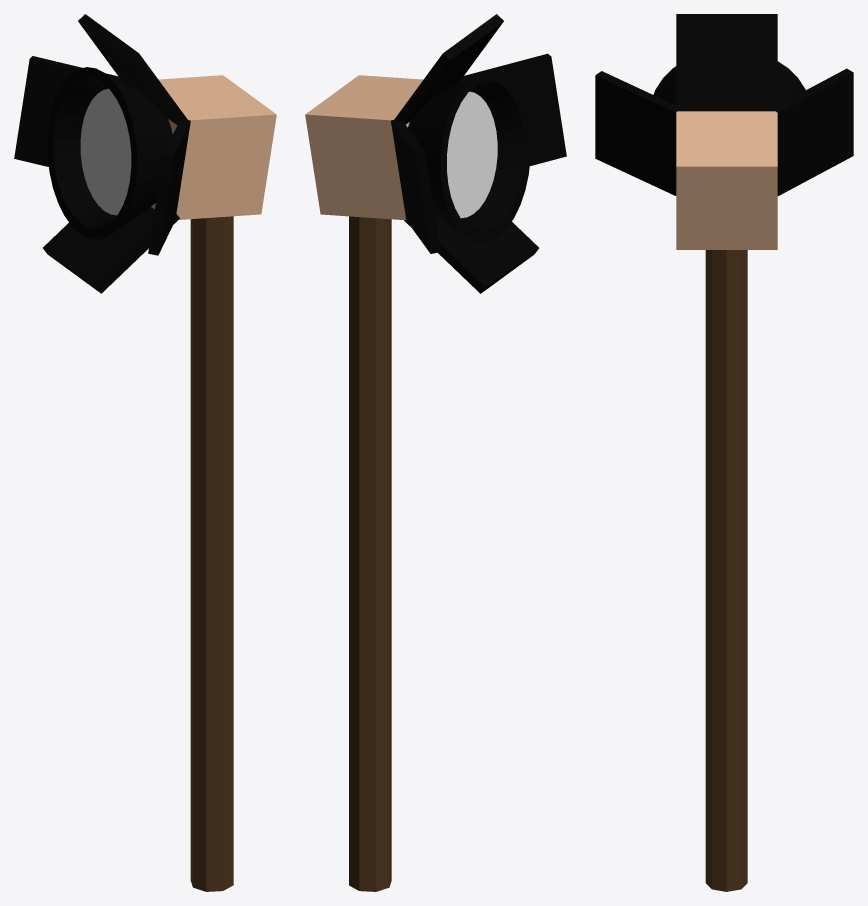
Rendered from spotlight.fbx.
3 renders of one model, left to right at view 1: azimuth 30°, elevation 25°; view 2: azimuth 150°, elevation 25°; view 3: azimuth 270°, elevation 25°, orthographic. The views are drawn at different scales.
Visible parts, largest first — view 1: Cone; view 2: Cone; view 3: Cone.
Boxes of the visible parts, x1,y1,x2,y2 form: Cone: (14, 14, 276, 891); Cone: (305, 14, 566, 891); Cone: (595, 14, 853, 891).
Bounding box in the file's own units: 138 × 638 × 181.
